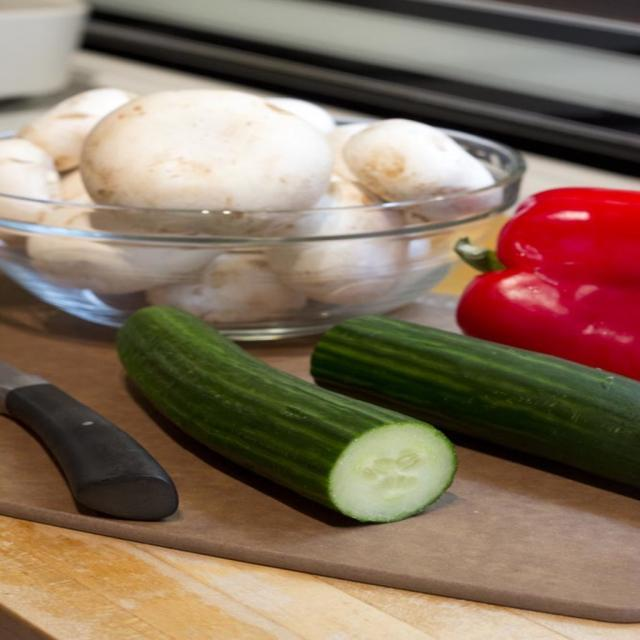Cucumber: (115, 305, 453, 524), (305, 311, 639, 490)
